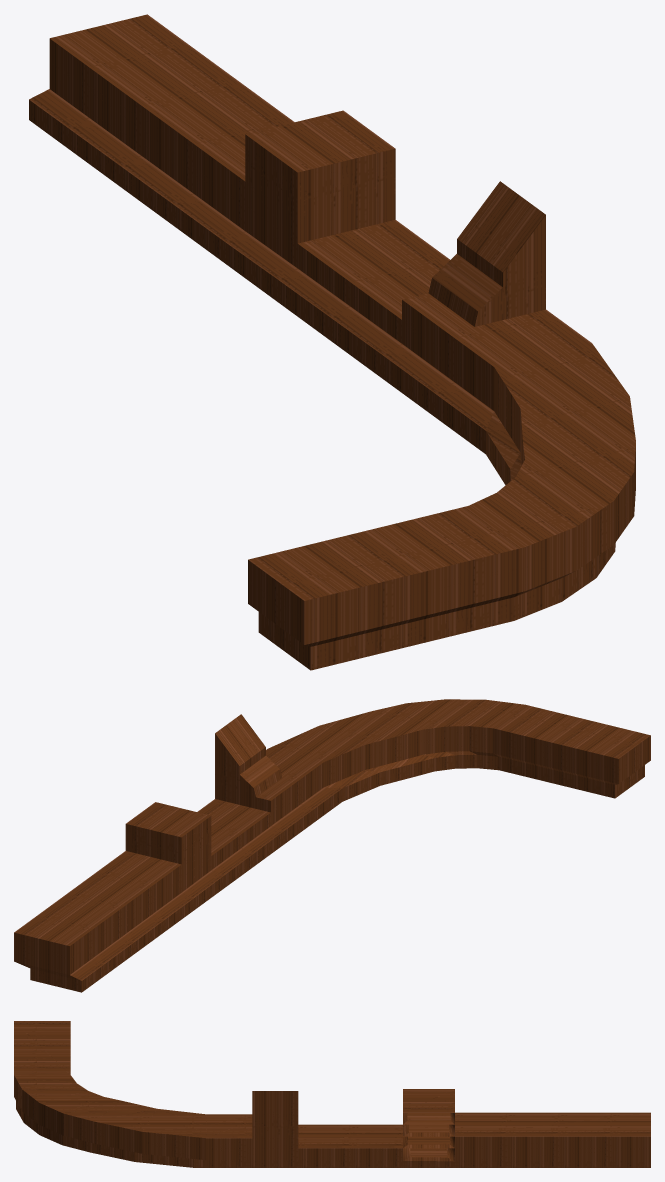
File: counter.obj
3 views of the same model, one above another, from view 1: azimuth 30°, elevation 25°; view 2: azimuth 150°, elevation 25°; view 3: azimuth 270°, elevation 25° (orthographic). The views are drawn at different scales.
Parts seen in each view (by area): view 1: counter; view 2: counter; view 3: counter.
Part boxes in pixels (box(x1,y1,x2,y2)): counter: box(29, 14, 635, 670); counter: box(14, 699, 650, 992); counter: box(14, 1021, 650, 1167).
Bounding box in the file's own units: 5.3 × 1.77 × 12.19.
